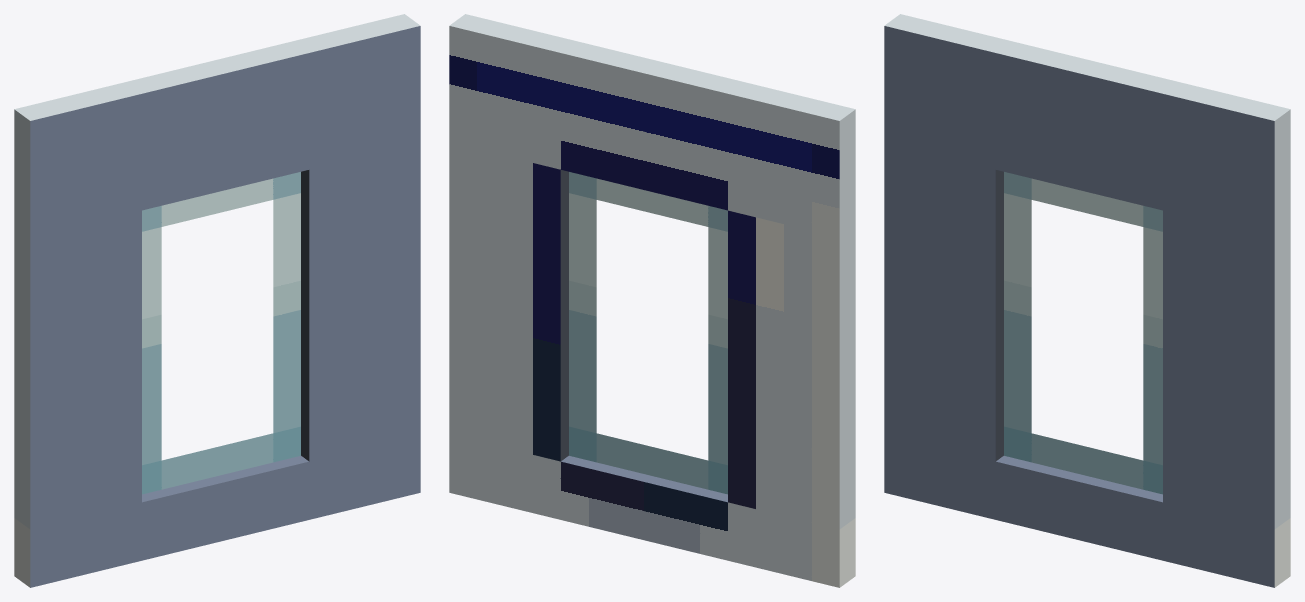
Rendered from df21_equip_door_upper_right.obj.
The picture shows the model from 3 angles, left to right: view 1: azimuth 30°, elevation 25°; view 2: azimuth 150°, elevation 25°; view 3: azimuth 330°, elevation 25°; orthographic projection.
Parts seen in each view (by area): view 1: sbj; view 2: sbj; view 3: sbj.
Part boxes in pixels (x1,y1,x2,y2): sbj: [14, 14, 420, 587]; sbj: [449, 14, 855, 587]; sbj: [884, 14, 1290, 587].
Bounding box in the file's own units: 0.875 × 1 × 0.0625.
